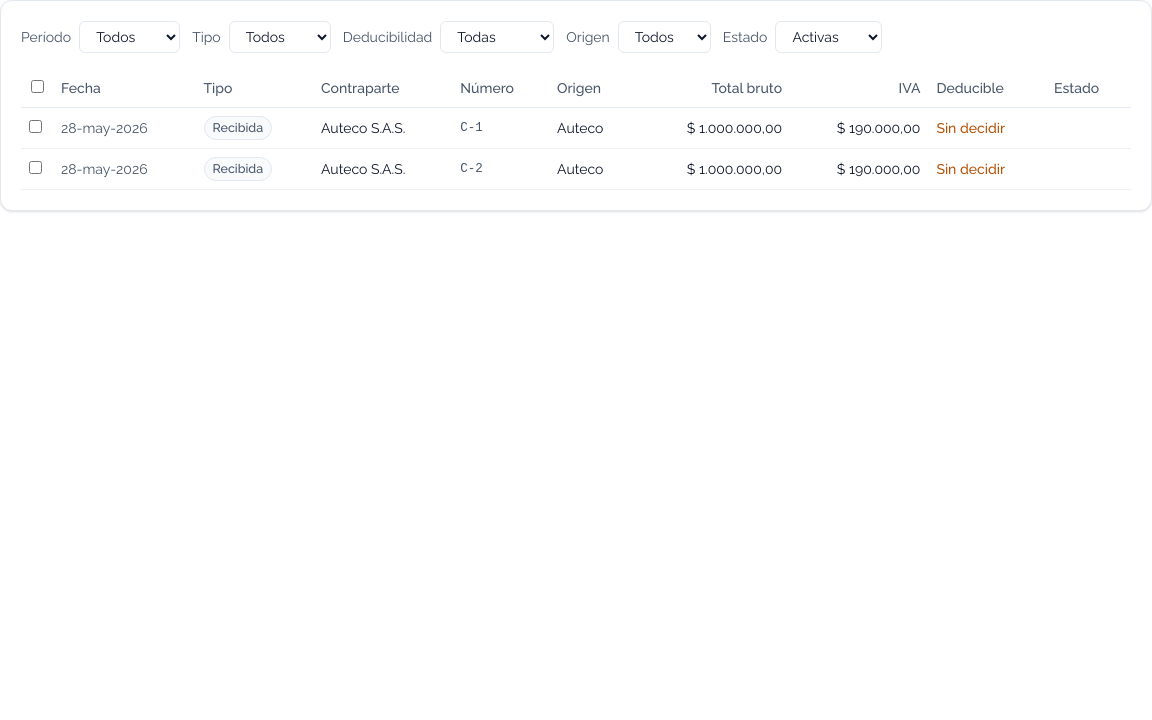
Test: FacturasTabla › lote: con errores muestra el resumen REAL, no éxito
Click the checkbox named "seleccionar todas".
click(37, 86)  # box [30,80,44,93]
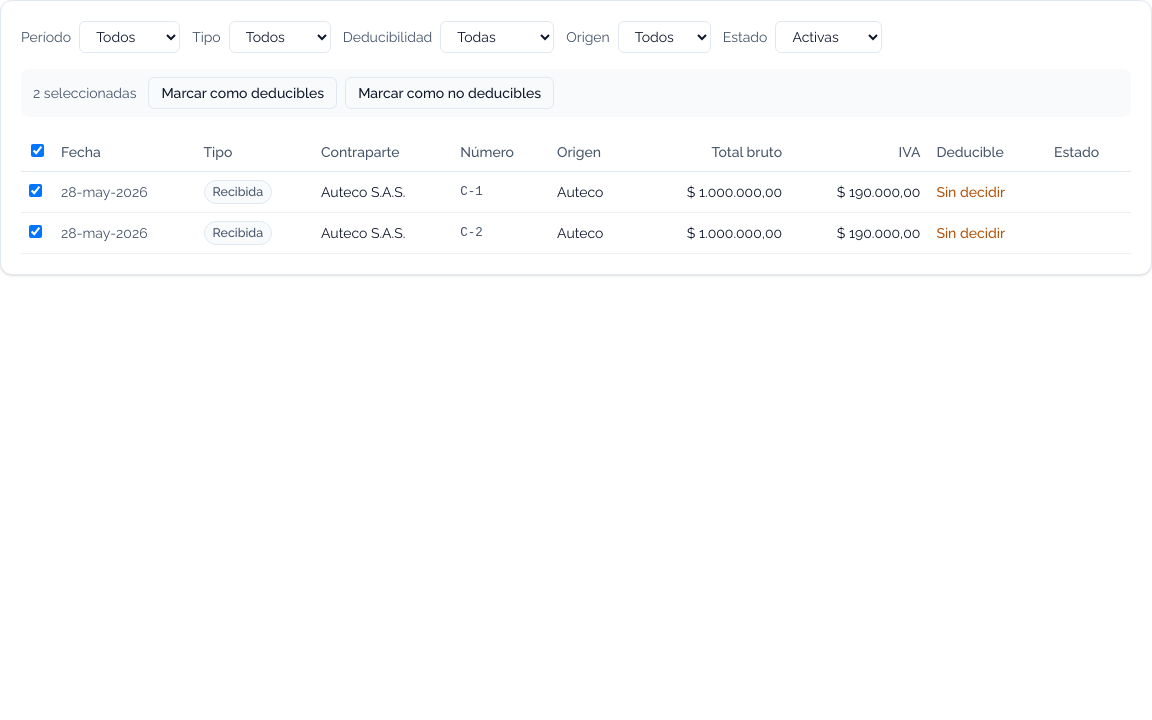
Click the button "Marcar como deducibles".
click(243, 93)  # box [148,77,337,109]
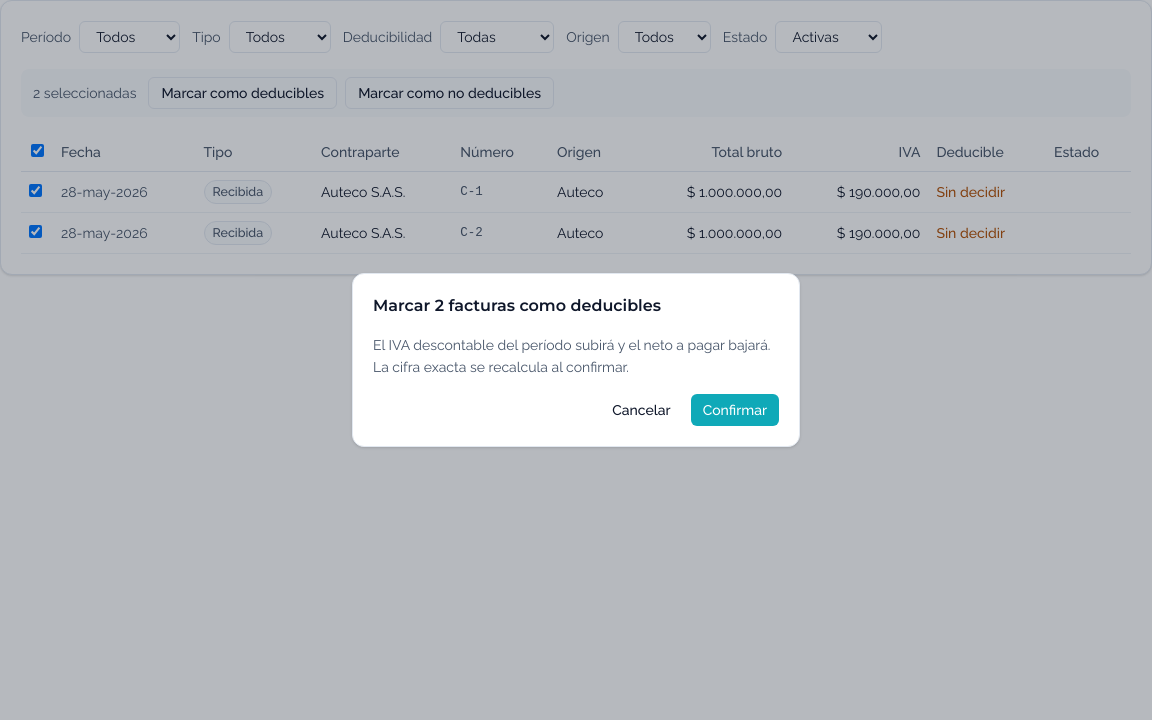
Click the button "Confirmar".
click(735, 410)  # box [691,394,779,426]
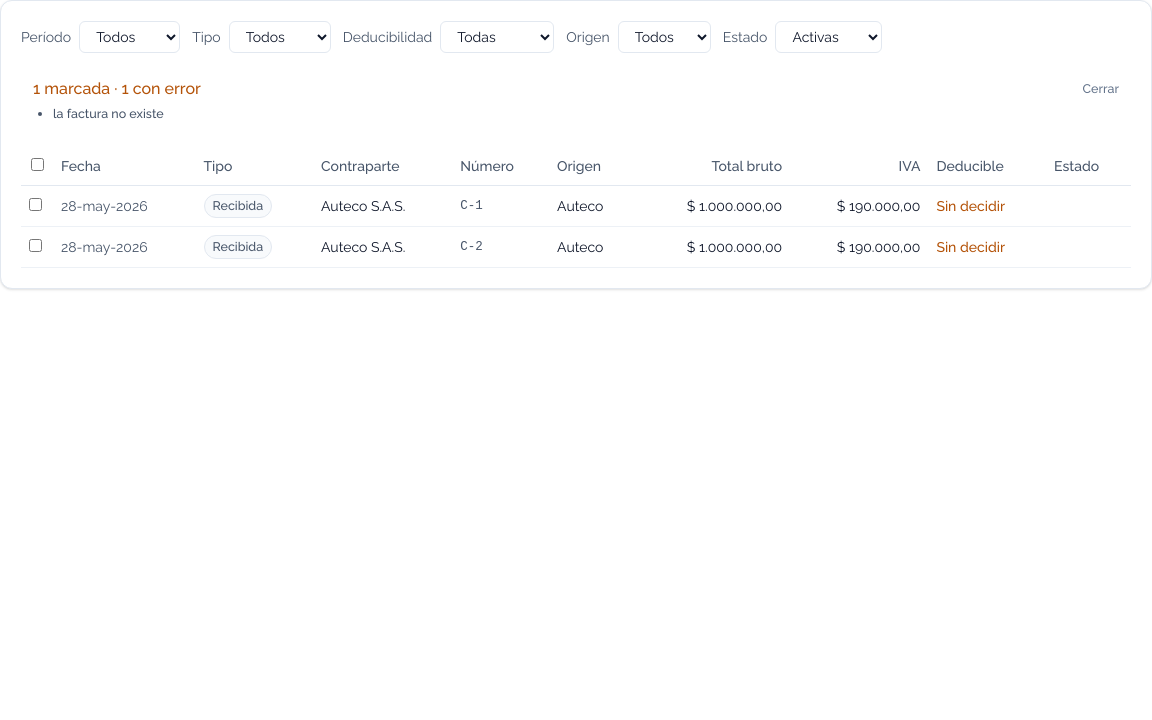
Expected: the text "1 marcada · 1 con error" is shown, [33,77,201,101]
Expected: the list item "la factura no existe" is shown, [53,106,164,121]
